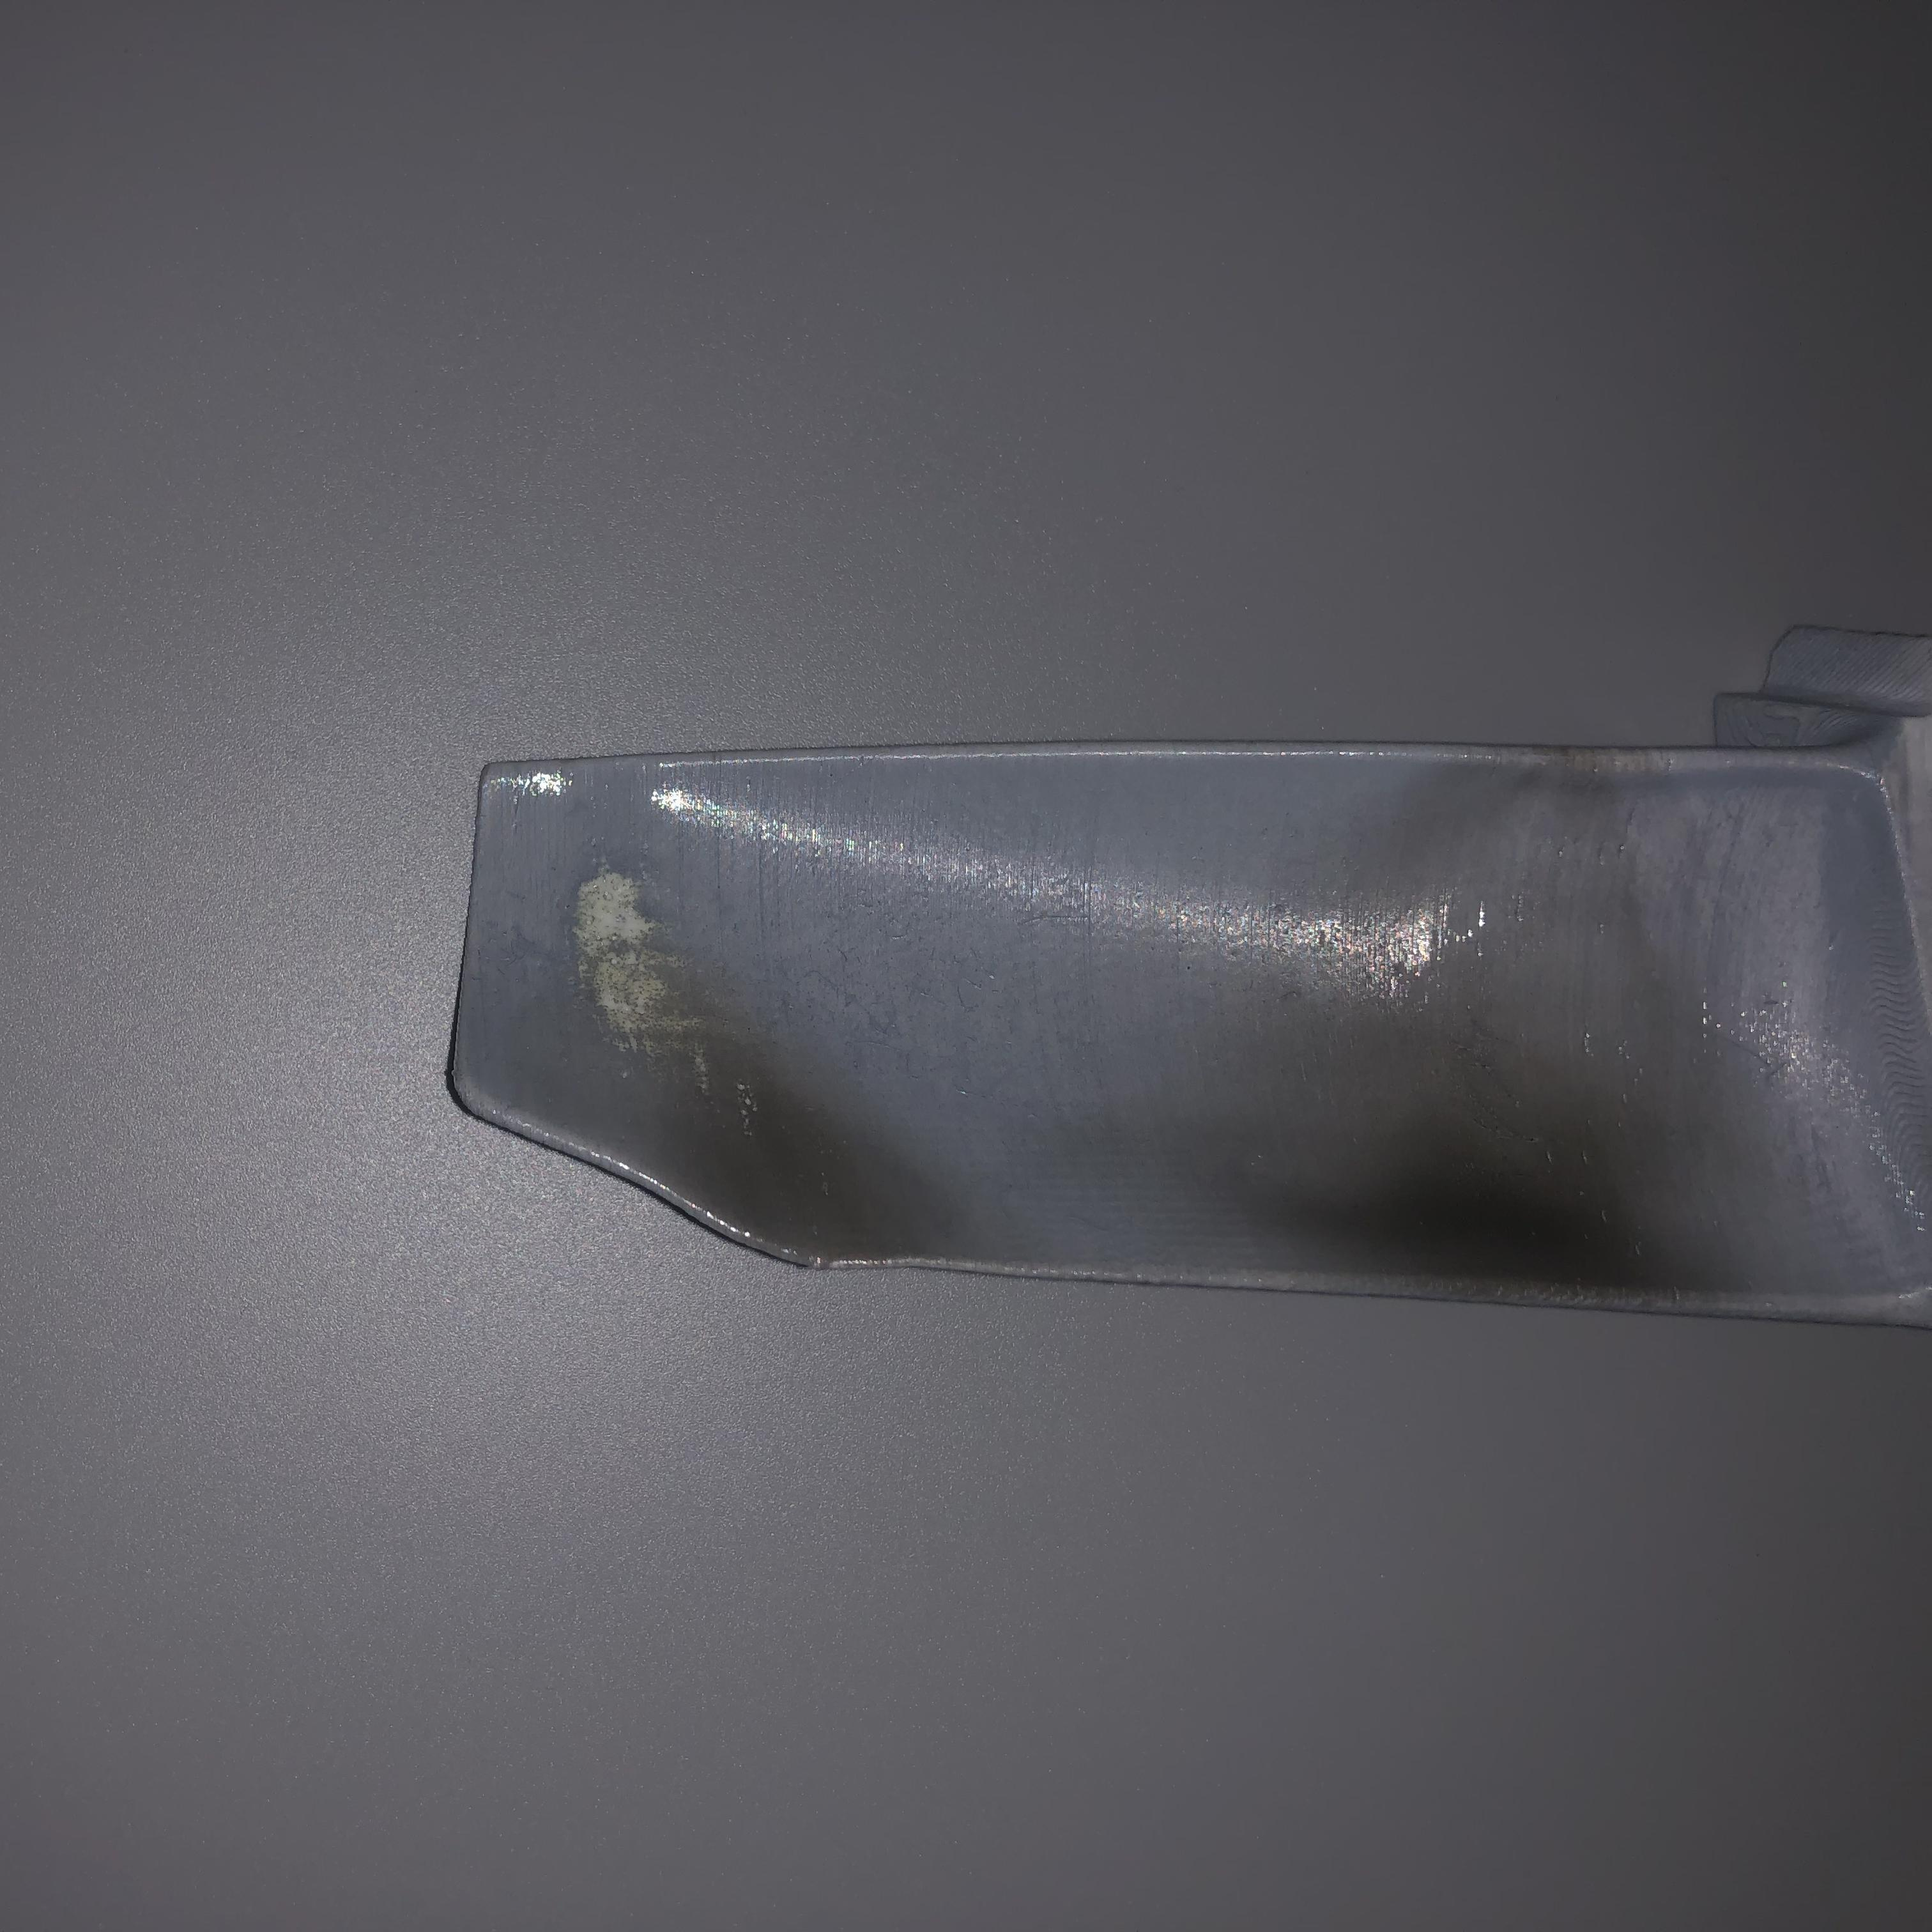ablation: (1346, 800, 1723, 1307), (579, 878, 968, 1263)
